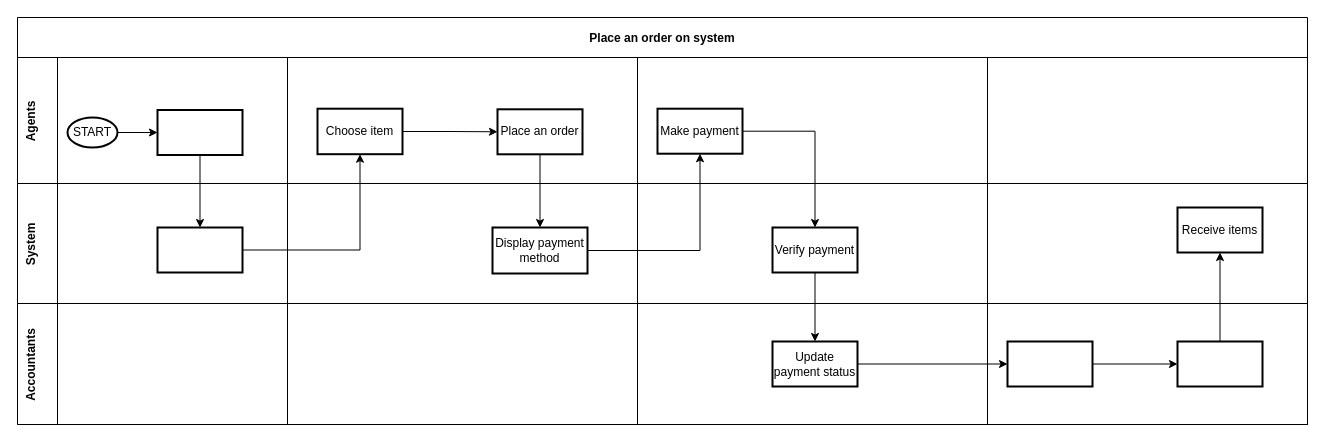
This 1325x442 diagram has some shape labels left out. The centre of each missing label's shape, as x and y in pixels:
Create export receipt: the point at 1049,363
Display items: the point at 199,249
LOGIN: the point at 199,132
Update items status: the point at 1219,363
